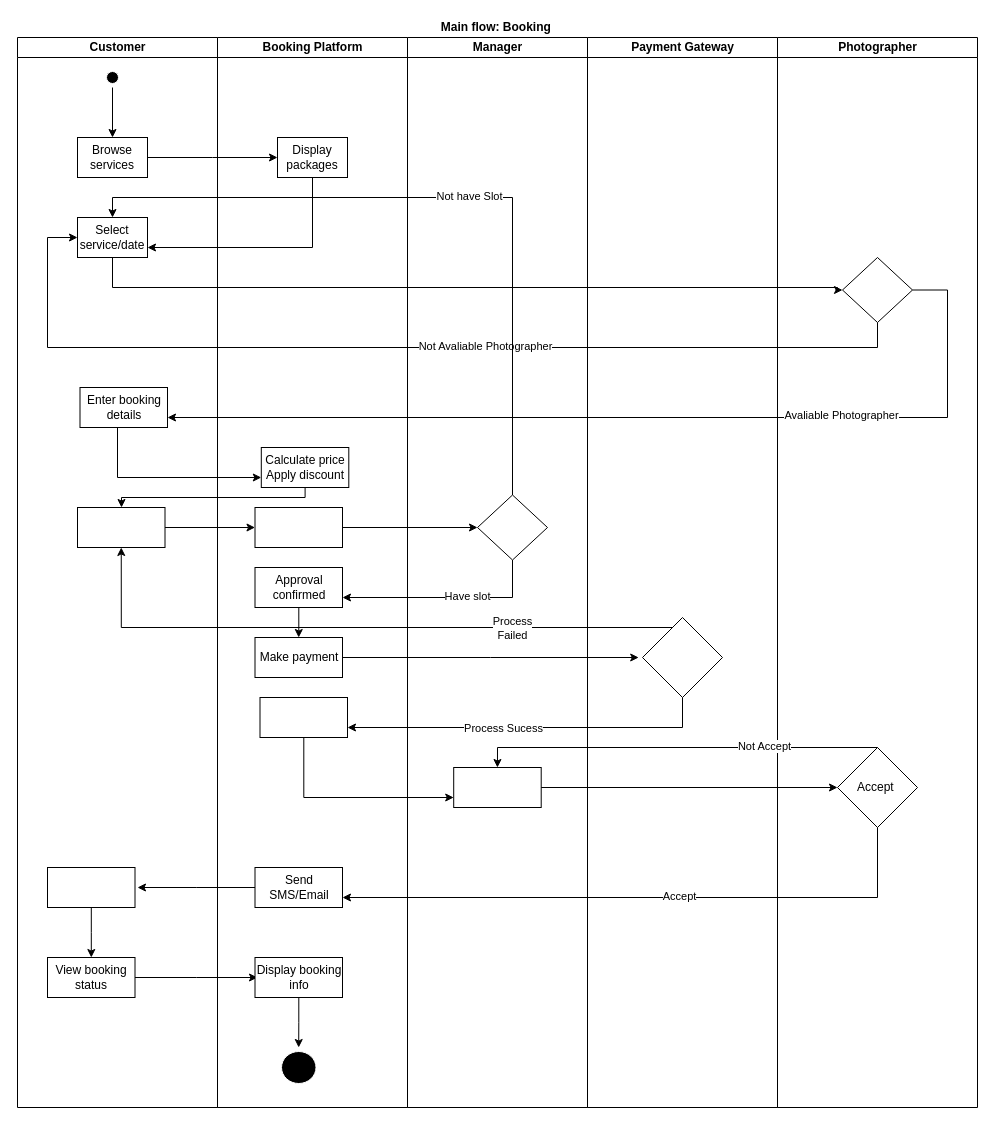
This 995x1125 diagram has some shape labels left out. Here are the shapes that lost their labels. From the top down, the centre of each, then its label:
At (877,289): "Check availability".
At (120,527): "Cofirm Booking".
At (298,527): "Send approval request".
At (512,527): "Review Slot".
At (682,657): "Process Payment".
At (303,717): "Create booking".
At (497,787): "Assign photographer".
At (90,887): "Receive booking info".
